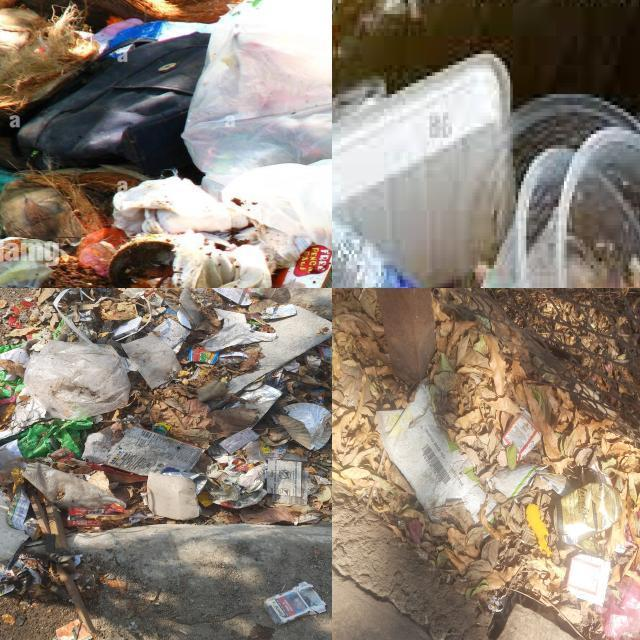Cig_pack: (114, 317, 141, 339)
Disposable: (332, 53, 515, 288), (483, 96, 640, 288), (0, 446, 27, 486), (235, 288, 276, 299)
Garbage: (332, 288, 640, 640), (0, 288, 332, 601), (332, 53, 640, 288)
Plastic: (18, 33, 209, 174), (152, 423, 170, 435)
Plastic_Bag: (182, 0, 332, 192), (376, 384, 486, 520), (221, 160, 332, 250), (23, 341, 130, 419), (123, 333, 181, 389), (18, 418, 92, 460), (488, 464, 573, 499), (601, 575, 640, 640), (272, 472, 316, 505), (179, 288, 210, 326), (462, 484, 487, 522), (0, 367, 25, 399), (245, 441, 285, 461), (281, 452, 307, 461), (486, 497, 496, 517)
Plastic_wraper: (107, 426, 203, 479), (275, 245, 332, 288), (223, 385, 281, 426), (67, 504, 129, 527), (14, 551, 47, 584), (0, 568, 34, 597), (8, 300, 36, 329), (189, 348, 218, 365), (21, 332, 43, 350), (48, 446, 74, 461), (145, 291, 163, 307), (310, 389, 325, 405), (316, 343, 332, 358), (0, 396, 16, 406)
Tetrapack: (566, 553, 611, 606), (502, 410, 541, 460)
can: (554, 482, 622, 546)
